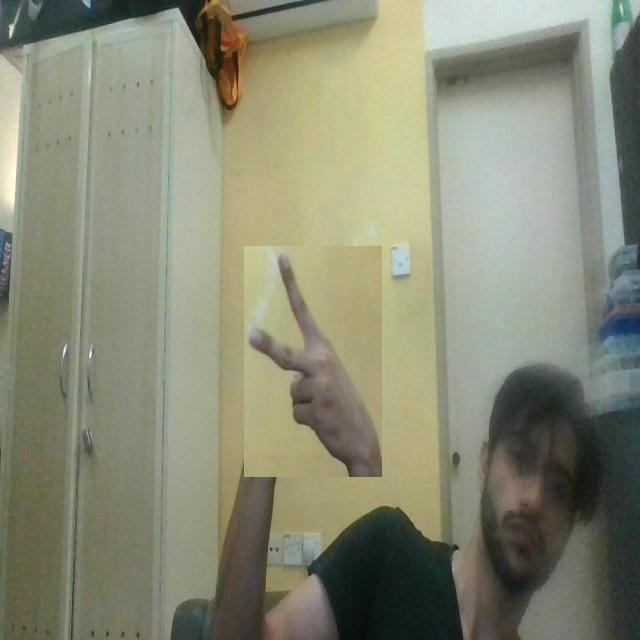peace: (245, 246, 382, 477)
